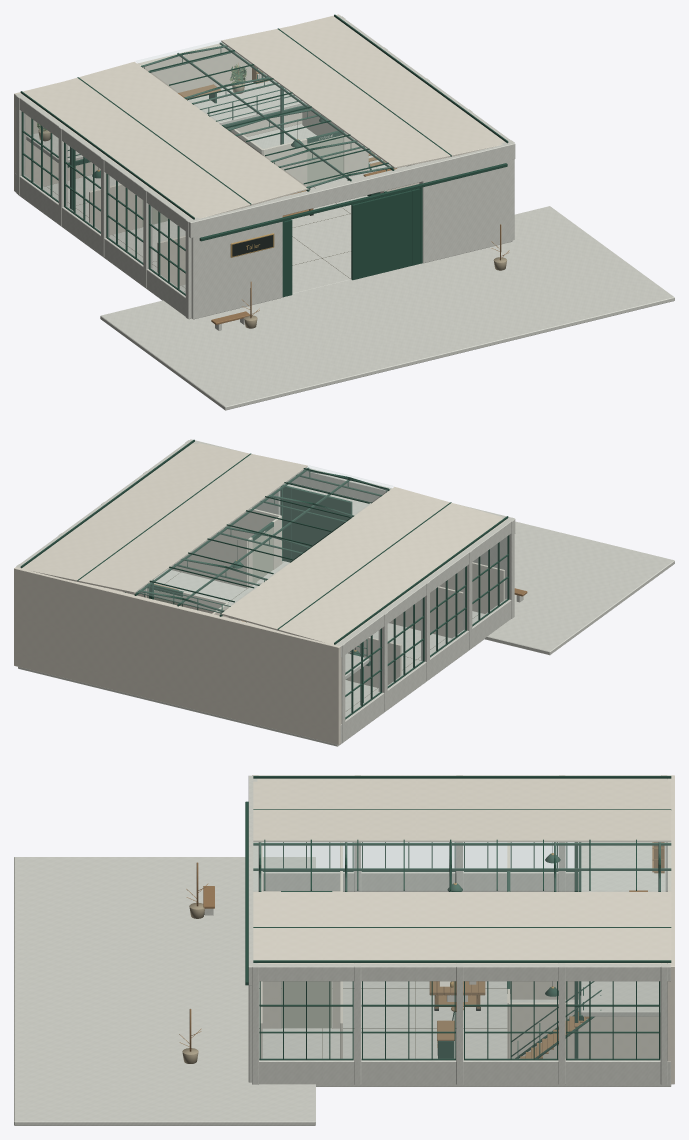
File: workshop-shell-v2.glb
The picture shows the model from 3 angles, top to bottom: view 1: azimuth 30°, elevation 25°; view 2: azimuth 150°, elevation 25°; view 3: azimuth 270°, elevation 25°; orthographic projection. The views are drawn at different scales.
Parts seen in each view (by area): view 1: shell__concrete, shell__plaster, shell__glass, shell__greensteel, roomgate__lorigine, shell__oak; view 2: shell__plaster, shell__concrete, shell__glass, shell__greensteel, roomgate__drokex; view 3: shell__concrete, shell__plaster, shell__glass, shell__greensteel, shell__oak, roomgate__drokex.
Part boxes in pixels (left/top/right/bottom): shell__concrete: left=15, top=15, right=674, bottom=410; shell__plaster: left=14, top=14, right=505, bottom=286; shell__glass: left=23, top=40, right=392, bottom=293; shell__greensteel: left=20, top=14, right=508, bottom=297; roomgate__lorigine: left=307, top=135, right=343, bottom=186; shell__oak: left=44, top=63, right=509, bottom=324; shell__plaster: left=14, top=443, right=505, bottom=744; shell__concrete: left=16, top=439, right=674, bottom=746; shell__glass: left=136, top=466, right=507, bottom=716; shell__greensteel: left=20, top=439, right=509, bottom=719; roomgate__drokex: left=252, top=527, right=273, bottom=583; shell__concrete: left=14, top=775, right=671, bottom=1125; shell__plaster: left=253, top=775, right=674, bottom=1084; shell__glass: left=253, top=841, right=670, bottom=1058; shell__greensteel: left=245, top=776, right=671, bottom=1060; shell__oak: left=179, top=842, right=664, bottom=1058; roomgate__drokex: left=281, top=981, right=331, bottom=1028.
Size of the model in its own units: 27 by 6.13 by 28.46.
Materials: 16 (3 with a texture image).
